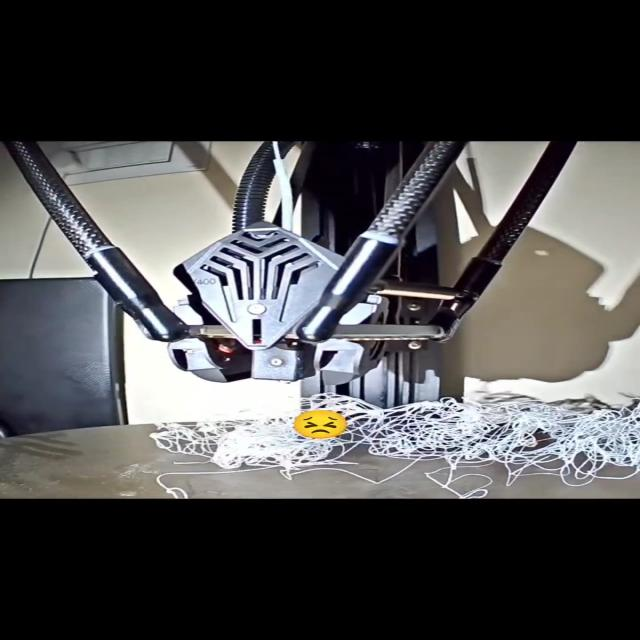spaghetti: (157, 400, 593, 480)
